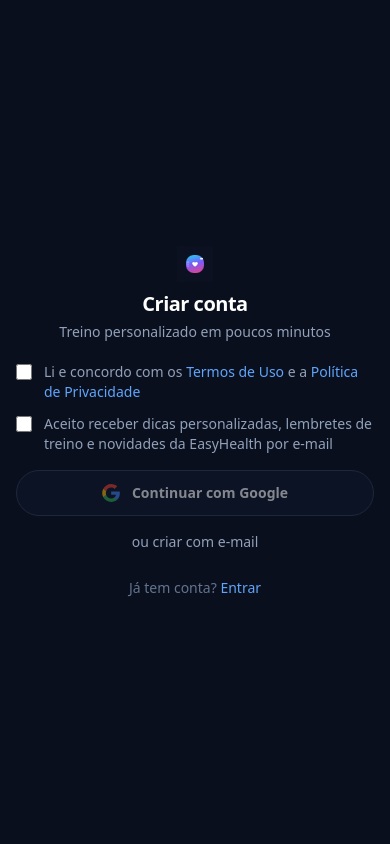
it: SignUp consent gate for Google sign-in › collapses the email form so consent and Google fit one phone screen
The width and height of the screenshot is (390, 844).
Check: the field with placeholder "Seu nome" is not shown
What coordinates should you click on to do the following:
click the button "ou criar com e-mail"
I would click on:
 (195, 542)
Its box is x1=16 y1=532 x2=374 y2=552.
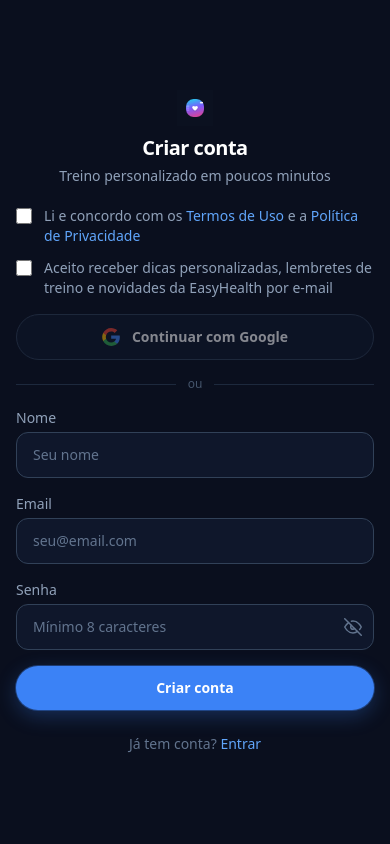
Check: the checkbox labelled "Termos de Uso" is shown, box x1=16 y1=208 x2=32 y2=224
Check: the field with placeholder "Seu nome" is shown, box x1=16 y1=432 x2=374 y2=478
